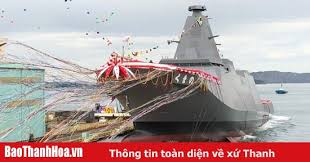tau_muctieu: (105, 17, 279, 134)
